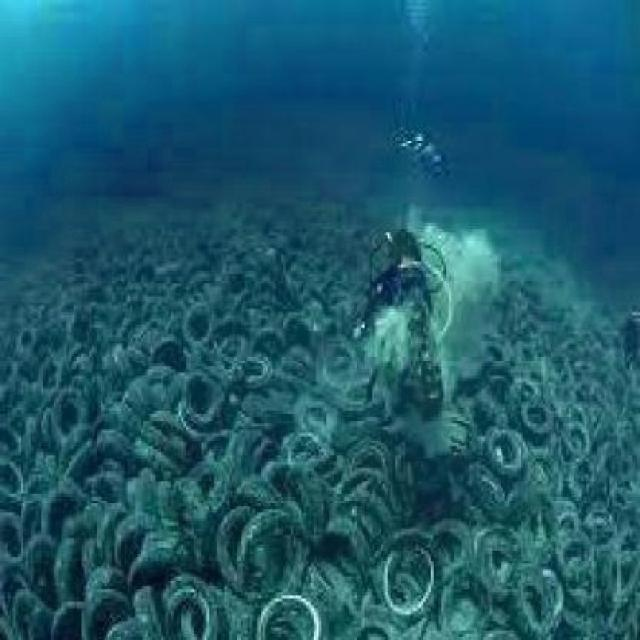tire: (1, 212, 362, 640), (366, 464, 640, 640), (477, 293, 640, 462)
